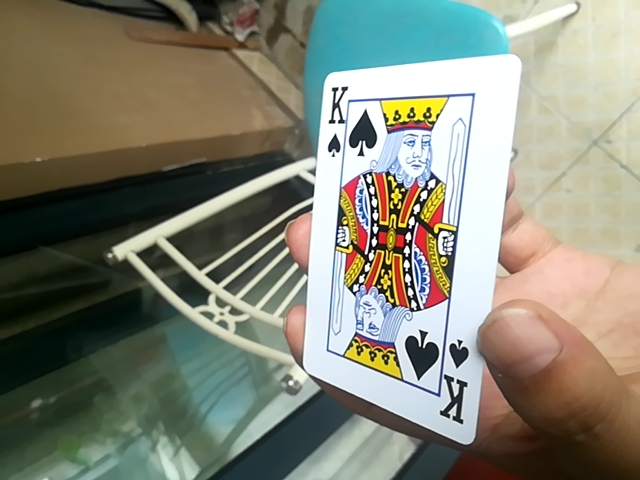ht k: (300, 49, 514, 452)
